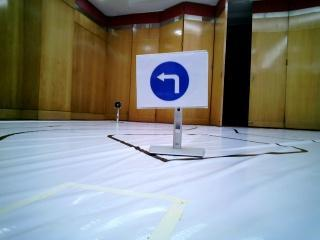left: (136, 55, 208, 105)
